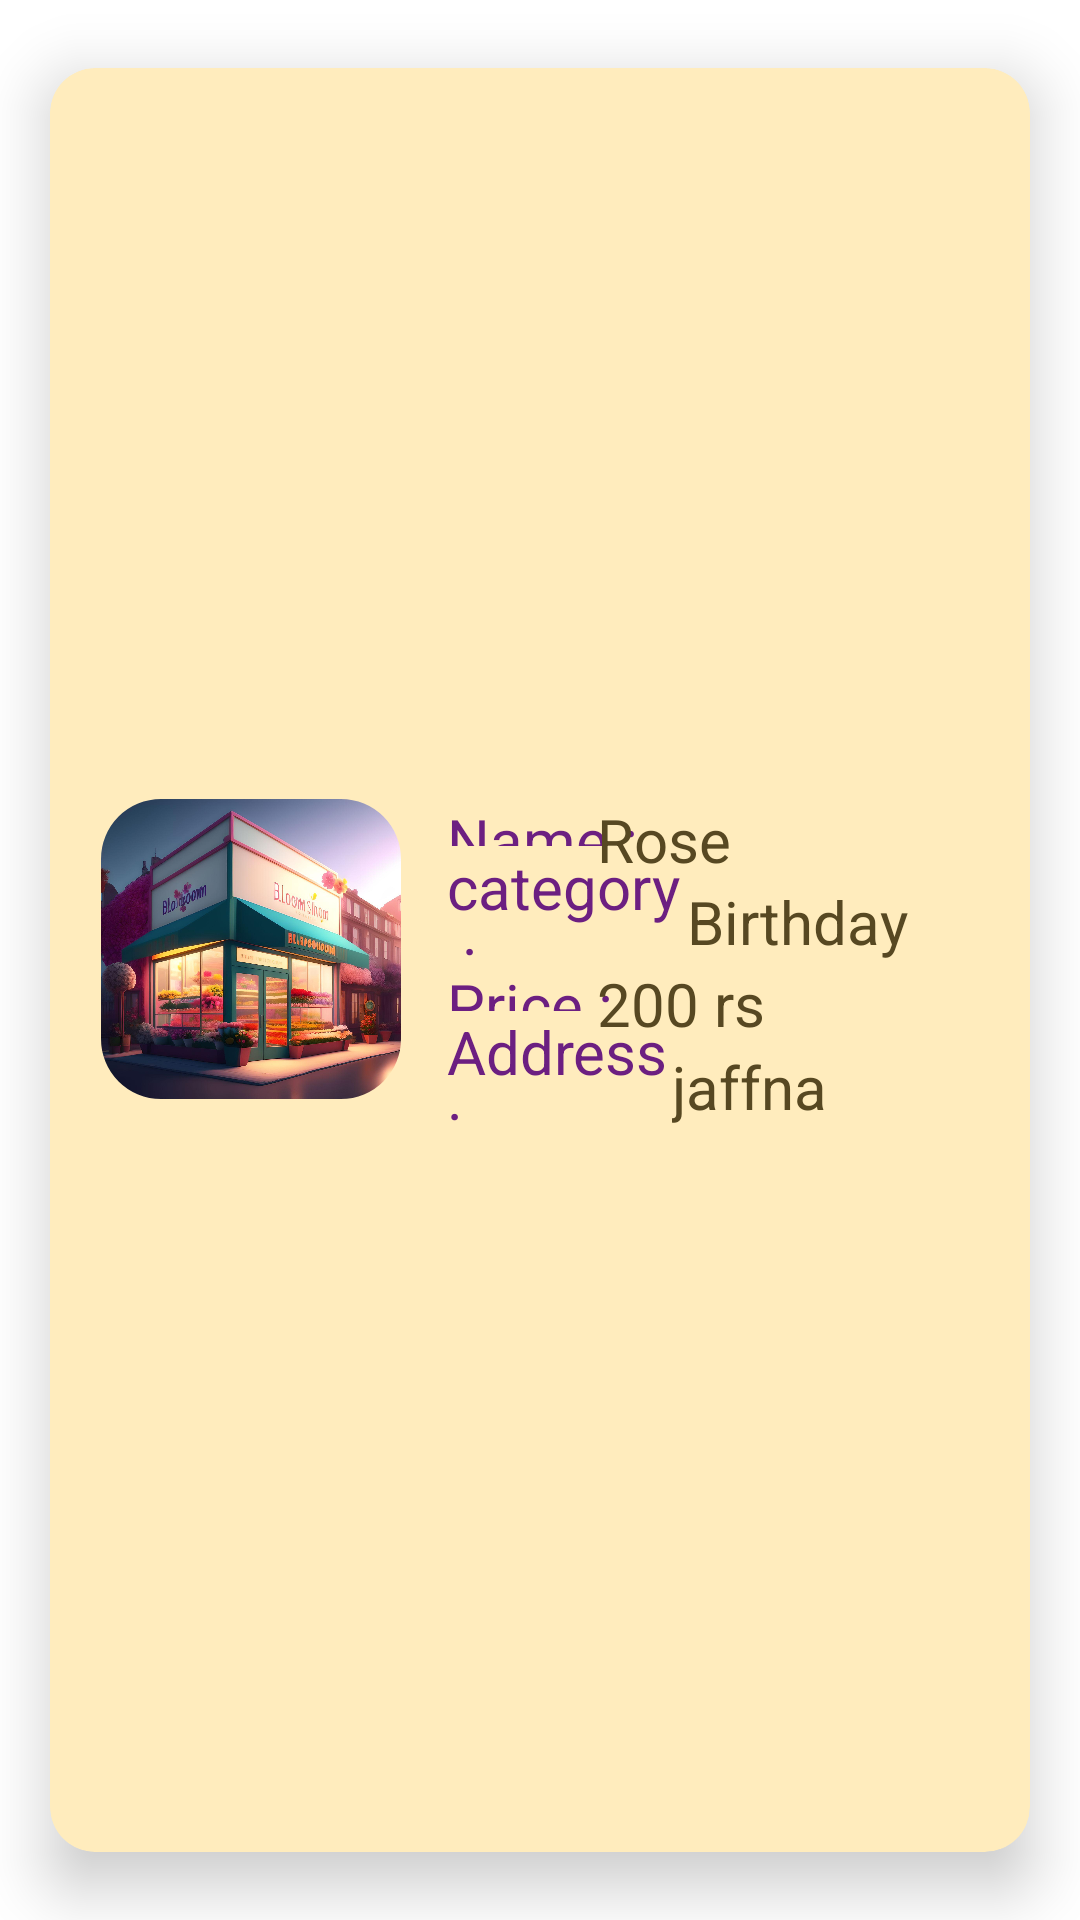

Screen size 1080px×1920px. Icon name, then its center in pixels as point (x, y):
homeshop: point (251, 949)
